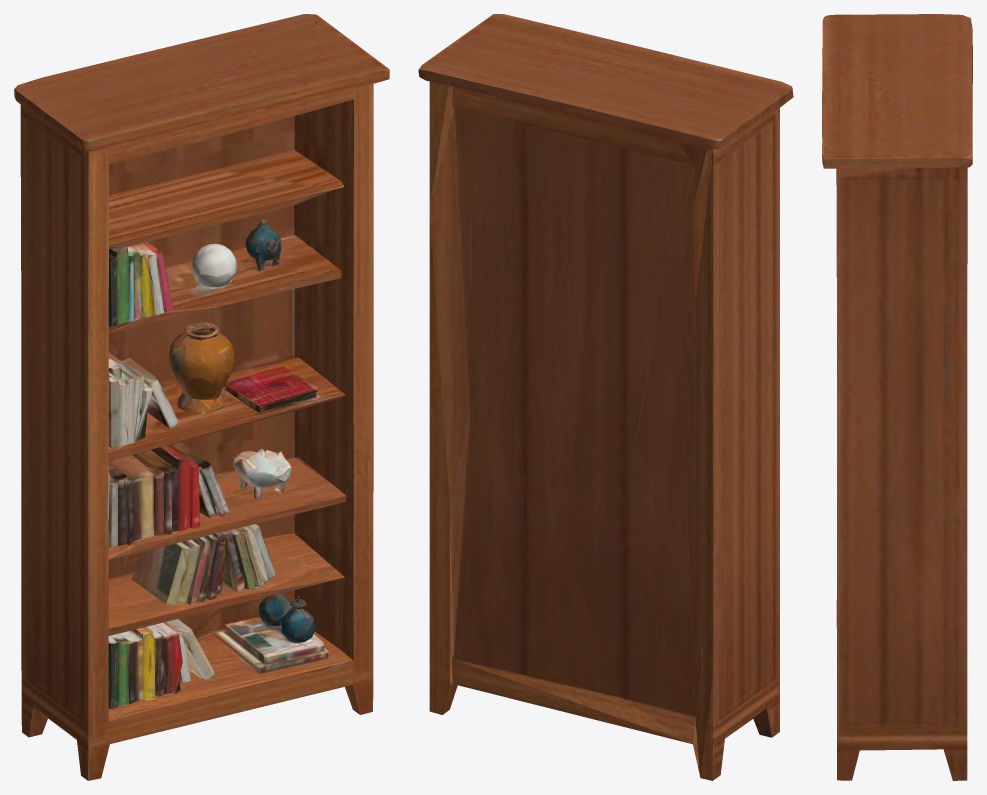
Rendered from bookshelf.glb.
3 renders of one model, left to right at view 1: azimuth 30°, elevation 25°; view 2: azimuth 150°, elevation 25°; view 3: azimuth 270°, elevation 25°, orthographic. The views are drawn at different scales.
Bounding box in the file's own units: 0.9317 × 1.9 × 0.4134.
1 material, 1 textured.
